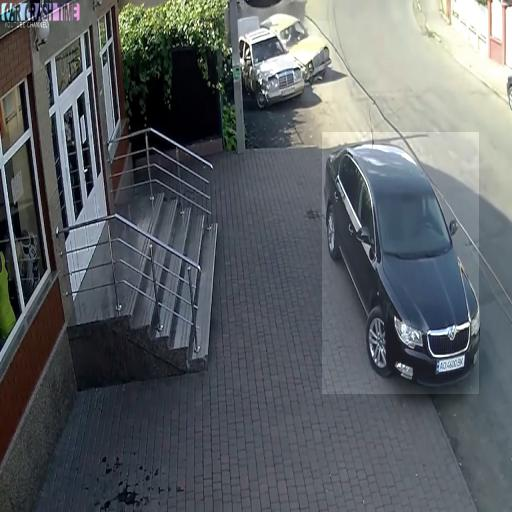小汽车: (322, 132, 479, 394)
小汽车撞小汽车: (240, 21, 332, 101)
